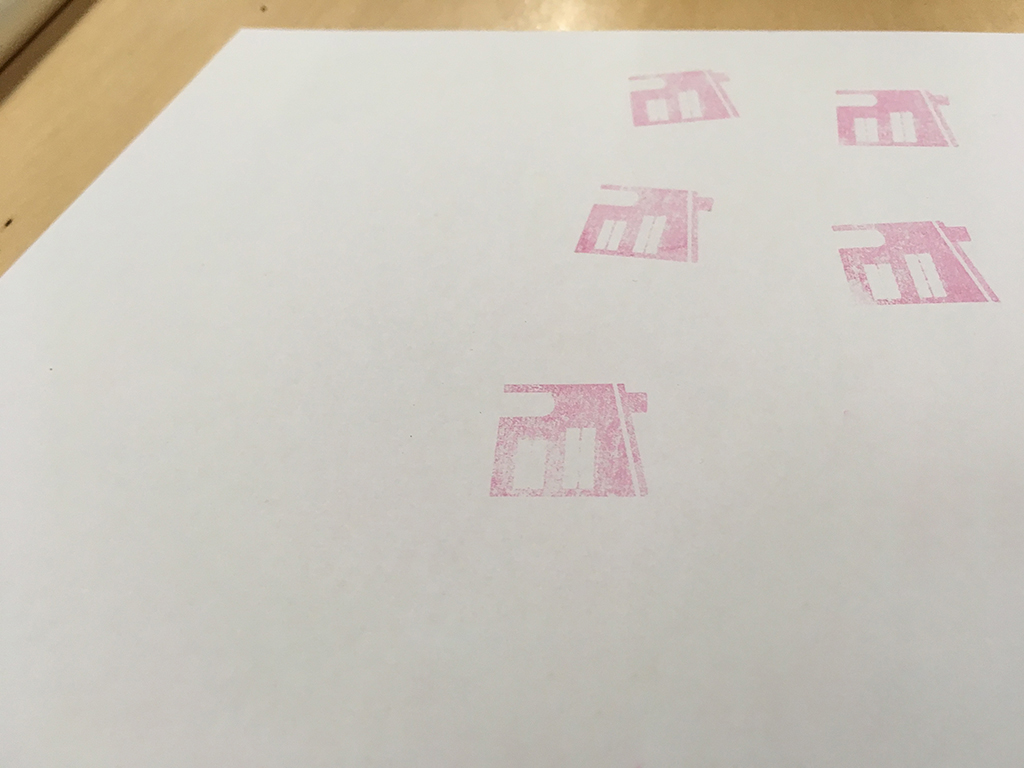house: (475, 368, 670, 507), (814, 199, 1013, 317), (574, 169, 723, 276), (821, 77, 973, 158), (621, 56, 750, 140)
